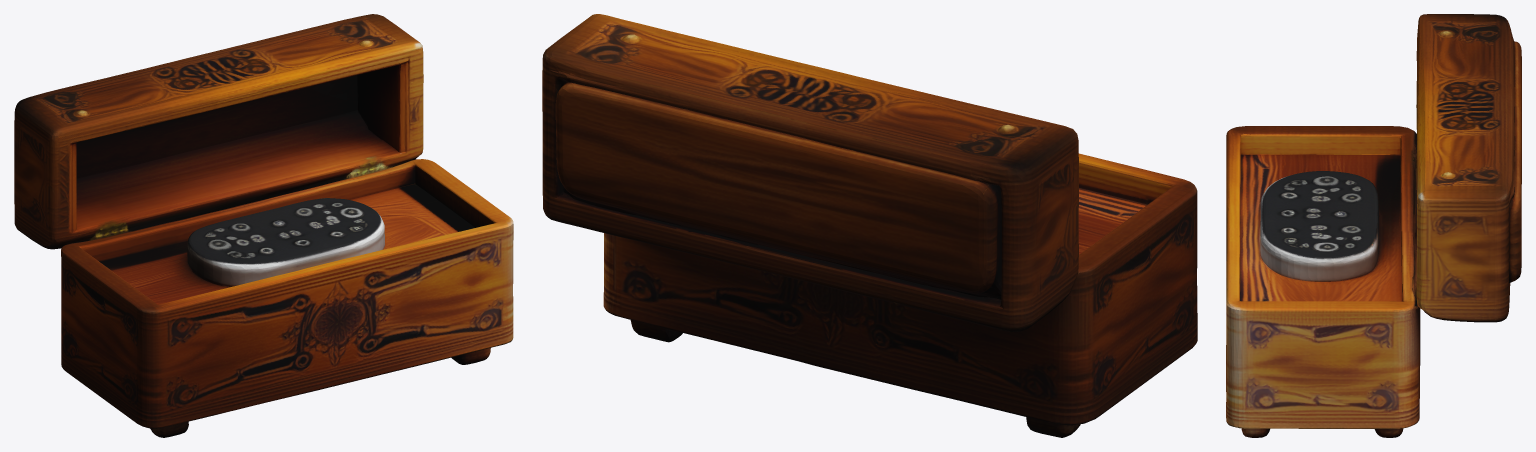
File: wooden-bluetooth-speaker-case-vintage.jpeg.glb
3 views of the same model, side by side, from view 1: azimuth 30°, elevation 25°; view 2: azimuth 150°, elevation 25°; view 3: azimuth 270°, elevation 25° (orthographic). The views are drawn at different scales.
Visible parts, largest first — view 1: world; view 2: world; view 3: world.
Part boxes in pixels (x1=…): world: x1=14, y1=14, x2=513, y2=437; world: x1=542, y1=14, x2=1197, y2=437; world: x1=1226, y1=14, x2=1521, y2=437.
Bounding box in the file's own units: 1 × 0.6482 × 0.6772.
1 material, 1 textured.
